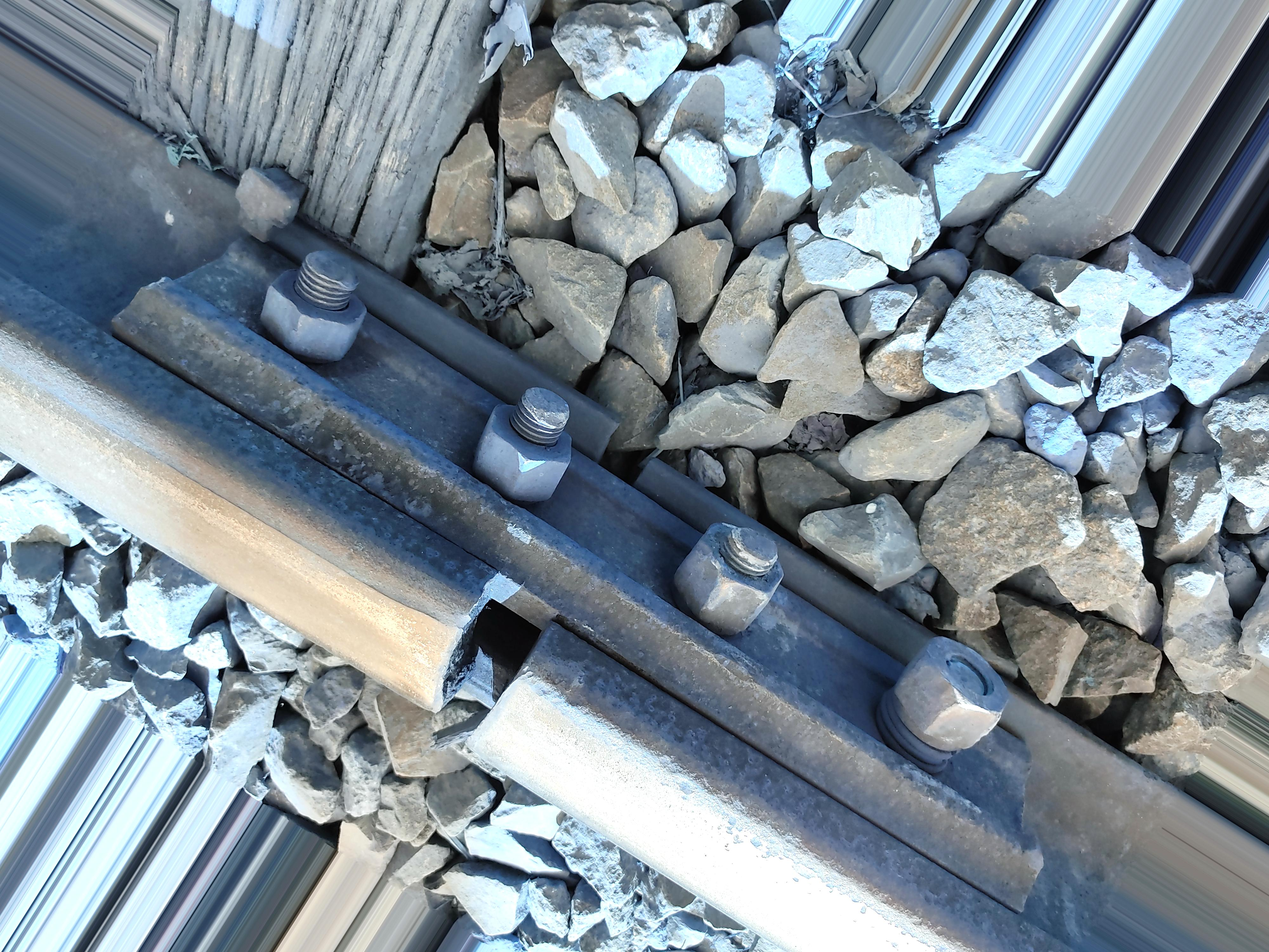tracks_fault: (393, 472, 641, 873)
